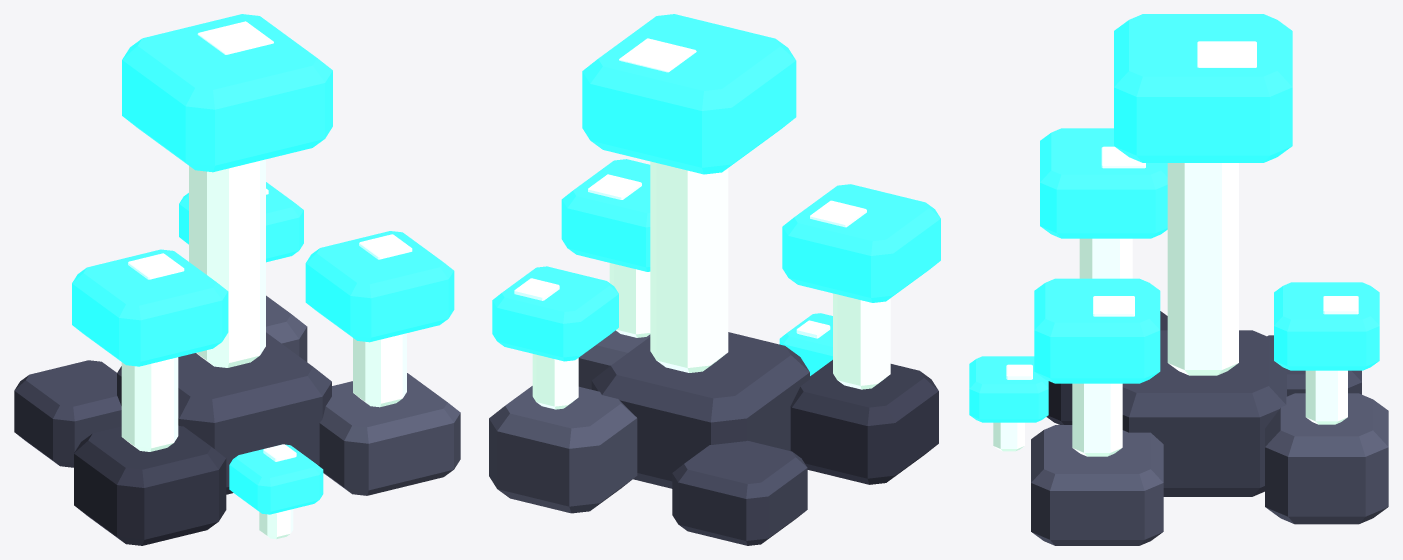
Rendered from Bogheart_MushroomCluster.glb.
3 renders of one model, left to right at view 1: azimuth 30°, elevation 25°; view 2: azimuth 150°, elevation 25°; view 3: azimuth 270°, elevation 25°, orthographic. The views are drawn at different scales.
Parts seen in each view (by area): view 1: MushroomCluster_mush_tall_cap_Glow, MushroomCluster_pebble_1, MushroomCluster_pebble_0, MushroomCluster_mush_left_cap_Glow, MushroomCluster_pebble_2, MushroomCluster_mush_tall_stem_Glow, MushroomCluster_mush_right_cap_Glow, MushroomCluster_pebble_4, MushroomCluster_mush_left_stem_Glow, MushroomCluster_mush_tiny_cap_Glow, MushroomCluster_mush_right_stem_Glow, MushroomCluster_mush_back_cap_Glow (+5 smaller); view 2: MushroomCluster_mush_tall_cap_Glow, MushroomCluster_pebble_0, MushroomCluster_mush_tall_stem_Glow, MushroomCluster_pebble_3, MushroomCluster_pebble_1, MushroomCluster_mush_left_cap_Glow, MushroomCluster_pebble_4, MushroomCluster_mush_back_cap_Glow, MushroomCluster_mush_right_cap_Glow, MushroomCluster_mush_left_stem_Glow, MushroomCluster_mush_right_stem_Glow, MushroomCluster_mush_back_stem_Glow (+6 smaller); view 3: MushroomCluster_mush_tall_cap_Glow, MushroomCluster_pebble_0, MushroomCluster_mush_tall_stem_Glow, MushroomCluster_pebble_3, MushroomCluster_pebble_2, MushroomCluster_mush_right_cap_Glow, MushroomCluster_mush_left_cap_Glow, MushroomCluster_mush_back_cap_Glow, MushroomCluster_mush_tiny_cap_Glow, MushroomCluster_mush_right_stem_Glow, MushroomCluster_mush_back_stem_Glow, MushroomCluster_mush_left_stem_Glow (+7 smaller).
Boxes of the visible parts, x1,y1,x2,y2 form: MushroomCluster_mush_tall_cap_Glow: (122,14,332,172); MushroomCluster_pebble_1: (74,425,226,545); MushroomCluster_pebble_0: (117,332,331,494); MushroomCluster_mush_left_cap_Glow: (72,249,228,366); MushroomCluster_pebble_2: (319,373,460,495); MushroomCluster_mush_tall_stem_Glow: (189,159,265,367); MushroomCluster_mush_right_cap_Glow: (305,231,454,342); MushroomCluster_pebble_4: (14,360,121,467); MushroomCluster_mush_left_stem_Glow: (121,357,178,451); MushroomCluster_mush_tiny_cap_Glow: (229,444,323,514); MushroomCluster_mush_right_stem_Glow: (353,333,406,407); MushroomCluster_mush_back_cap_Glow: (179,182,303,262); MushroomCluster_mush_tall_cap_Glow: (582,14,796,174); MushroomCluster_pebble_0: (591,332,809,488); MushroomCluster_mush_tall_stem_Glow: (650,161,728,372); MushroomCluster_pebble_3: (489,386,637,513); MushroomCluster_pebble_1: (790,360,938,484); MushroomCluster_mush_left_cap_Glow: (782,184,940,302); MushroomCluster_pebble_4: (672,440,807,545); MushroomCluster_mush_back_cap_Glow: (492,266,618,361); MushroomCluster_mush_right_cap_Glow: (561,159,650,271); MushroomCluster_mush_left_stem_Glow: (833,293,890,389); MushroomCluster_mush_right_stem_Glow: (609,263,650,337); MushroomCluster_mush_back_stem_Glow: (532,354,578,409); MushroomCluster_mush_tall_cap_Glow: (1114,14,1292,162); MushroomCluster_pebble_0: (1122,330,1286,496); MushroomCluster_mush_tall_stem_Glow: (1167,163,1238,375); MushroomCluster_pebble_3: (1265,393,1388,524); MushroomCluster_pebble_2: (1031,425,1163,545); MushroomCluster_mush_right_cap_Glow: (1034,278,1160,383); MushroomCluster_mush_left_cap_Glow: (1040,128,1167,238); MushroomCluster_mush_back_cap_Glow: (1274,282,1379,370); MushroomCluster_mush_tiny_cap_Glow: (969,356,1048,422); MushroomCluster_mush_right_stem_Glow: (1072,383,1122,456); MushroomCluster_mush_back_stem_Glow: (1305,370,1347,424); MushroomCluster_mush_left_stem_Glow: (1079,238,1132,278).
Size of the model in its own units: 0.93 by 1.06 by 0.95.
